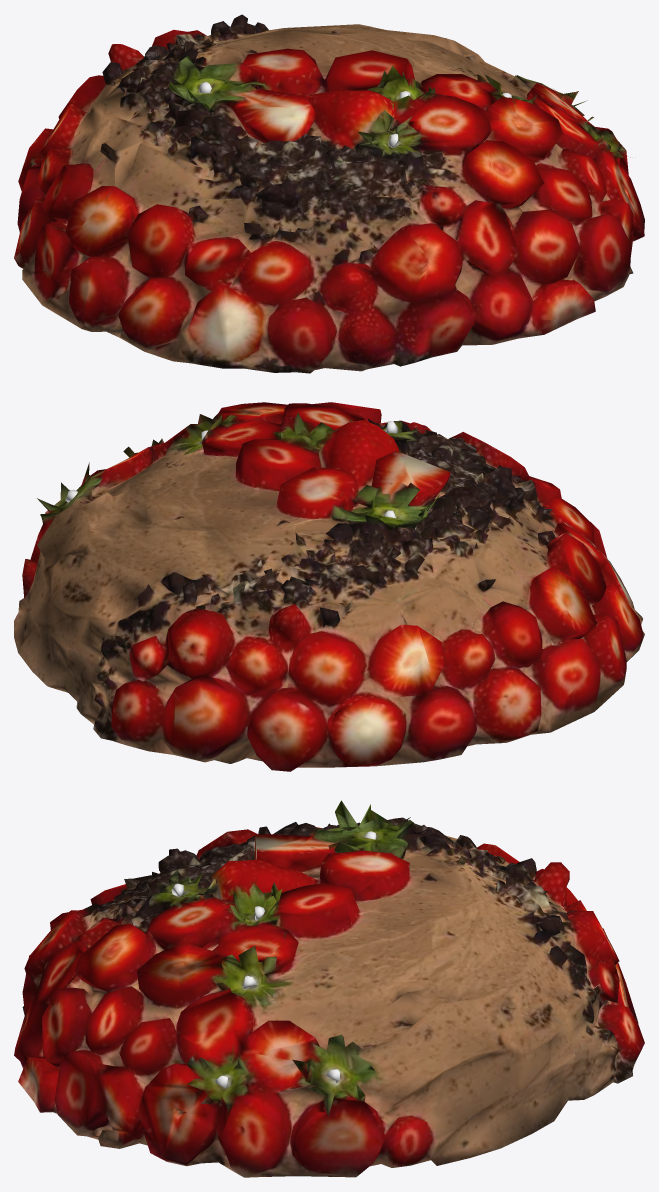
File: strawberry_chocolate_cake.glb
3 views of the same model, one above another, from view 1: azimuth 30°, elevation 25°; view 2: azimuth 150°, elevation 25°; view 3: azimuth 270°, elevation 25° (orthographic). The views are drawn at different scales.
Visible parts, largest first — view 1: strawberry_chocolate_cake; view 2: strawberry_chocolate_cake; view 3: strawberry_chocolate_cake.
Part boxes in pixels (left/top/right/bottom): strawberry_chocolate_cake: left=14, top=14, right=644, bottom=373; strawberry_chocolate_cake: left=14, top=402, right=644, bottom=771; strawberry_chocolate_cake: left=14, top=800, right=644, bottom=1177.
Bounding box in the file's own units: 0.2435 × 0.0771 × 0.2402.
1 material, 1 textured.
